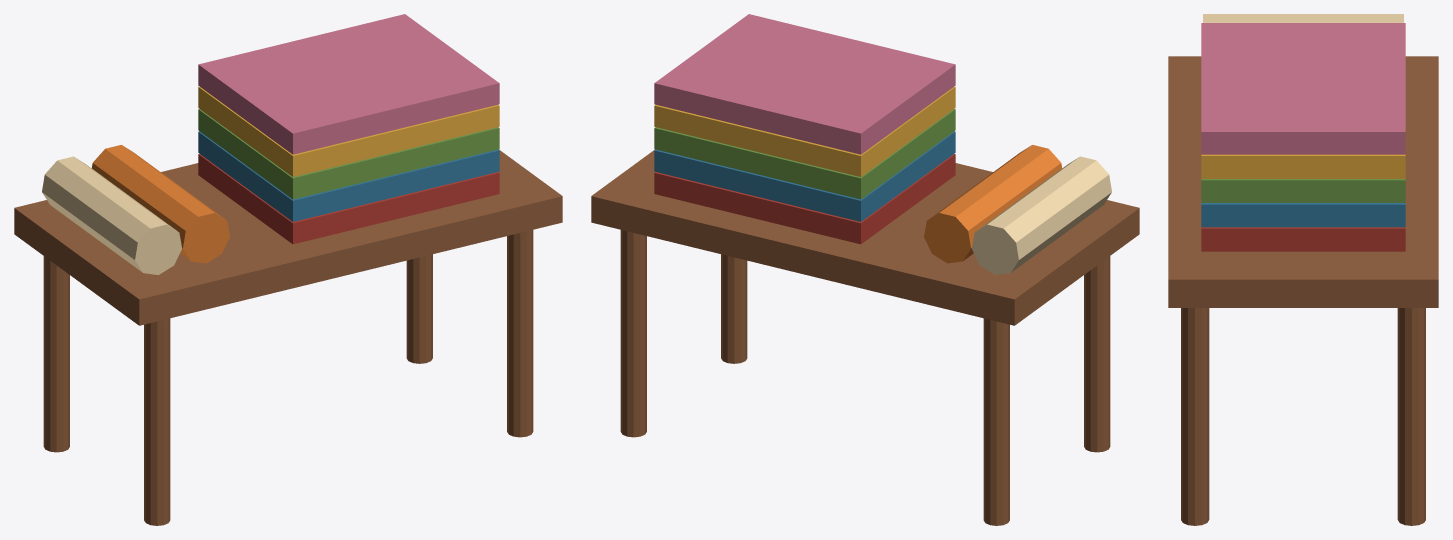
The model's file is 058_folded_textile_counter.glb.
3 views of the same model, side by side, from view 1: azimuth 30°, elevation 25°; view 2: azimuth 150°, elevation 25°; view 3: azimuth 270°, elevation 25° (orthographic). The views are drawn at different scales.
Visible parts, largest first — view 1: Folded textile counter; view 2: Folded textile counter; view 3: Folded textile counter.
Boxes of the visible parts, box(x1,y1,x2,y2) form: Folded textile counter: box(14, 14, 562, 525); Folded textile counter: box(591, 14, 1139, 525); Folded textile counter: box(1168, 14, 1438, 525).
Size of the model in its own units: 1.68 by 1.33 by 0.86.
